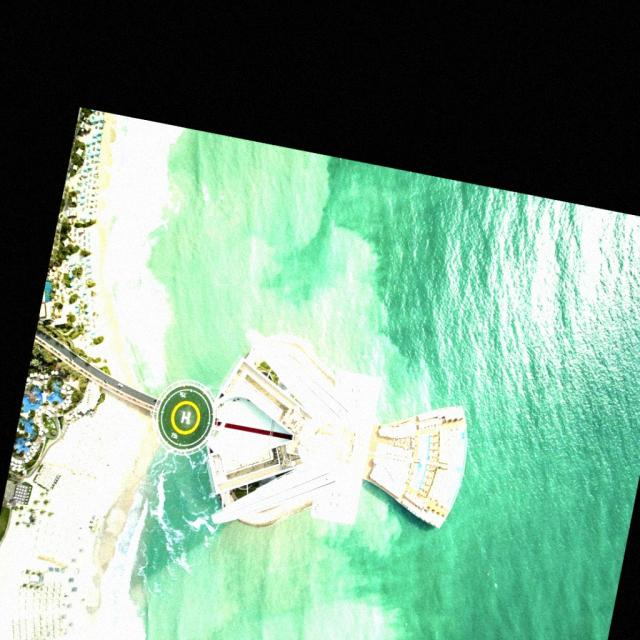helipad: (168, 398, 200, 436)
